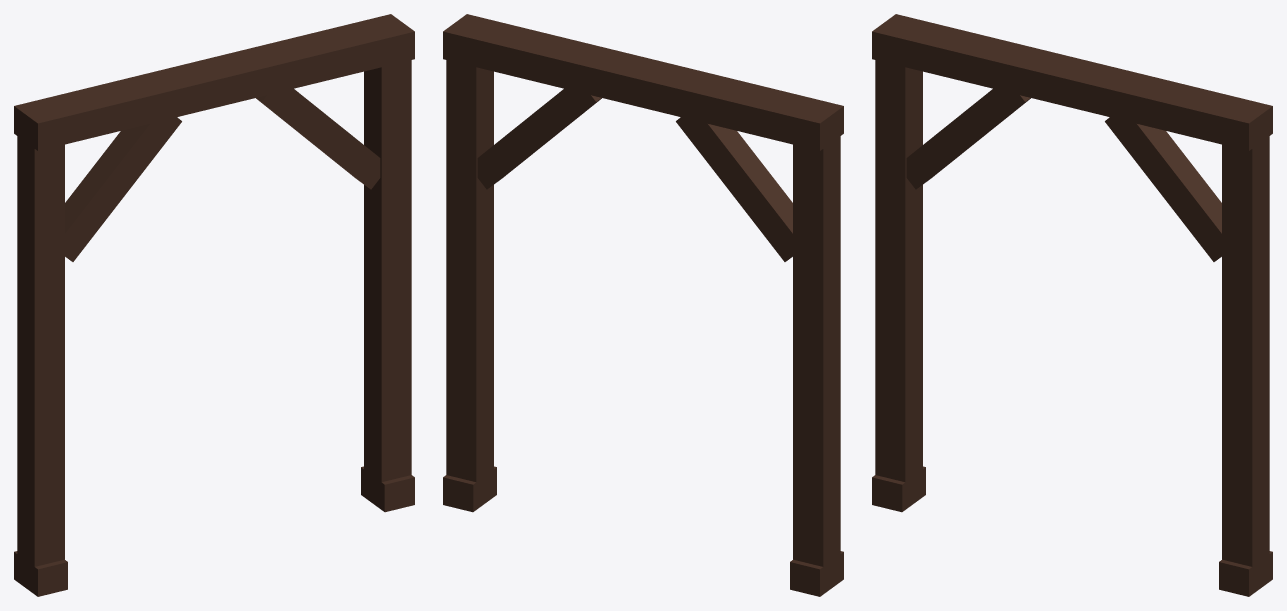
Rendered from 820_open_knee_braced_wall_frame.fbx.
3 renders of one model, left to right at view 1: azimuth 30°, elevation 25°; view 2: azimuth 150°, elevation 25°; view 3: azimuth 330°, elevation 25°, orthographic.
Visible parts, largest first — view 1: 820_open_knee_braced_wall_frame; view 2: 820_open_knee_braced_wall_frame; view 3: 820_open_knee_braced_wall_frame.
Part boxes in pixels (<box>): 820_open_knee_braced_wall_frame: <box>14,14,414,596</box>; 820_open_knee_braced_wall_frame: <box>443,14,843,596</box>; 820_open_knee_braced_wall_frame: <box>872,14,1272,596</box>.
Size of the model in its own units: 2 by 2.4 by 0.22.
1 material, 1 textured.
